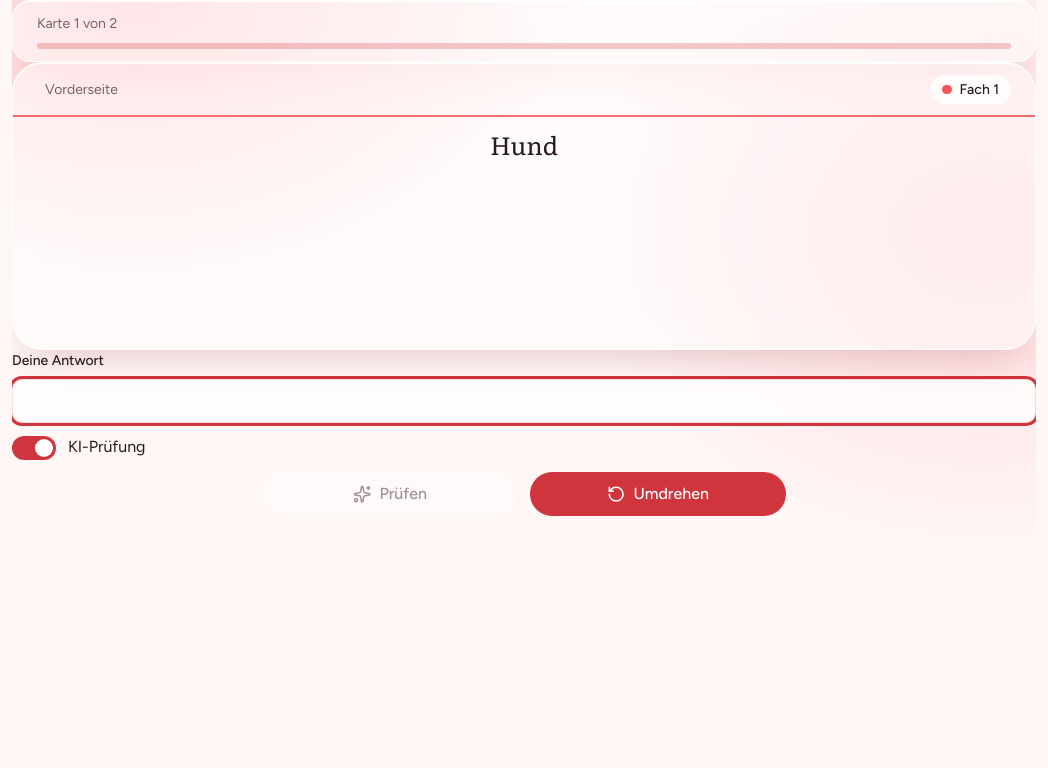
Test: LearnSession with AI check › offers the chat only after flipping
The width and height of the screenshot is (1048, 768).
Expected: the text "Frag die KI zu dieser Karte" is not shown
Click the button "Umdrehen": (658, 494) [530,472,786,516]
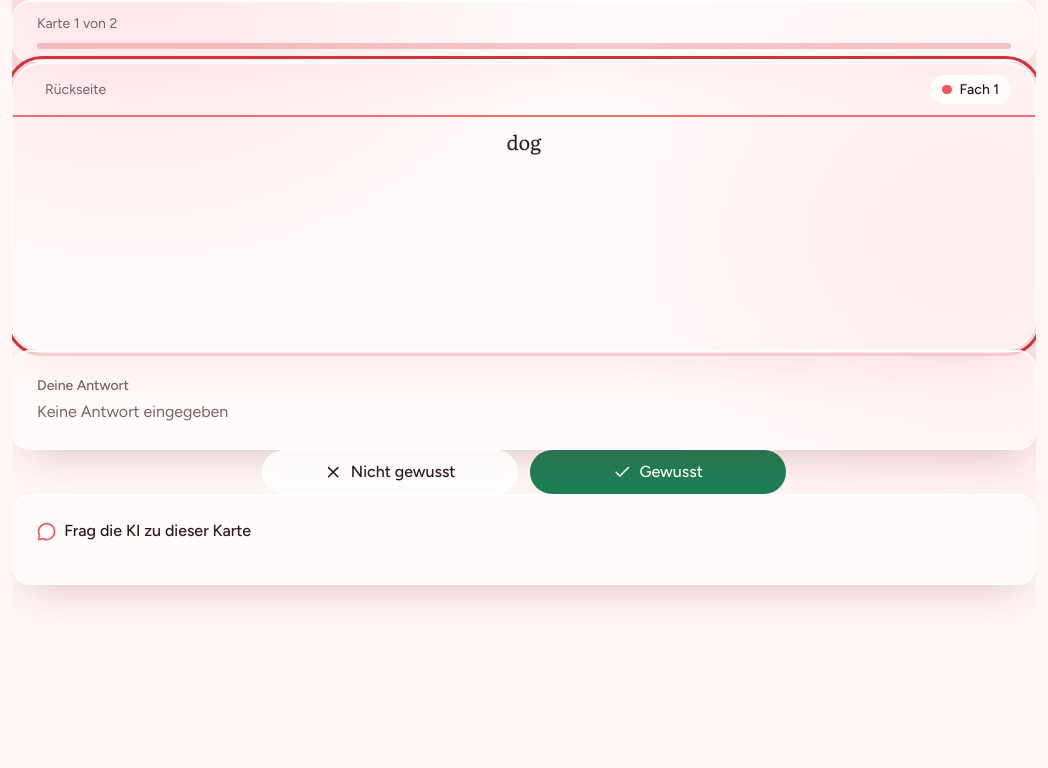
Now the heading "Frag die KI zu dieser Karte" is shown, box [37,521,251,541]
